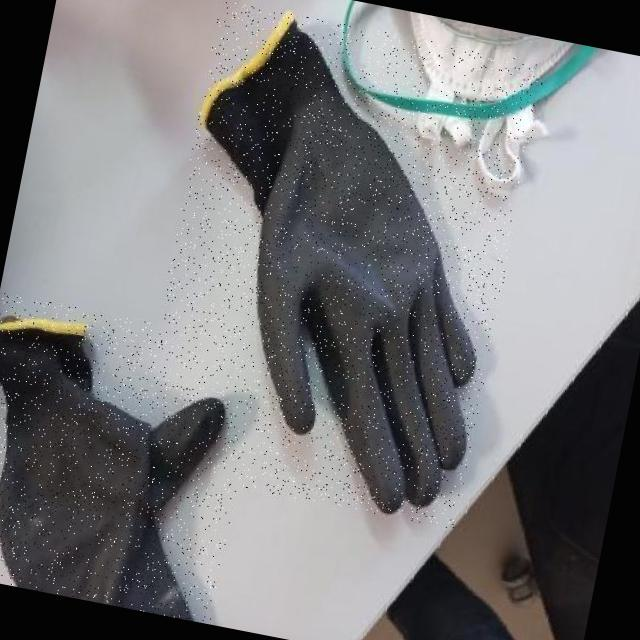gloves: (136, 0, 558, 537), (0, 299, 250, 622)
